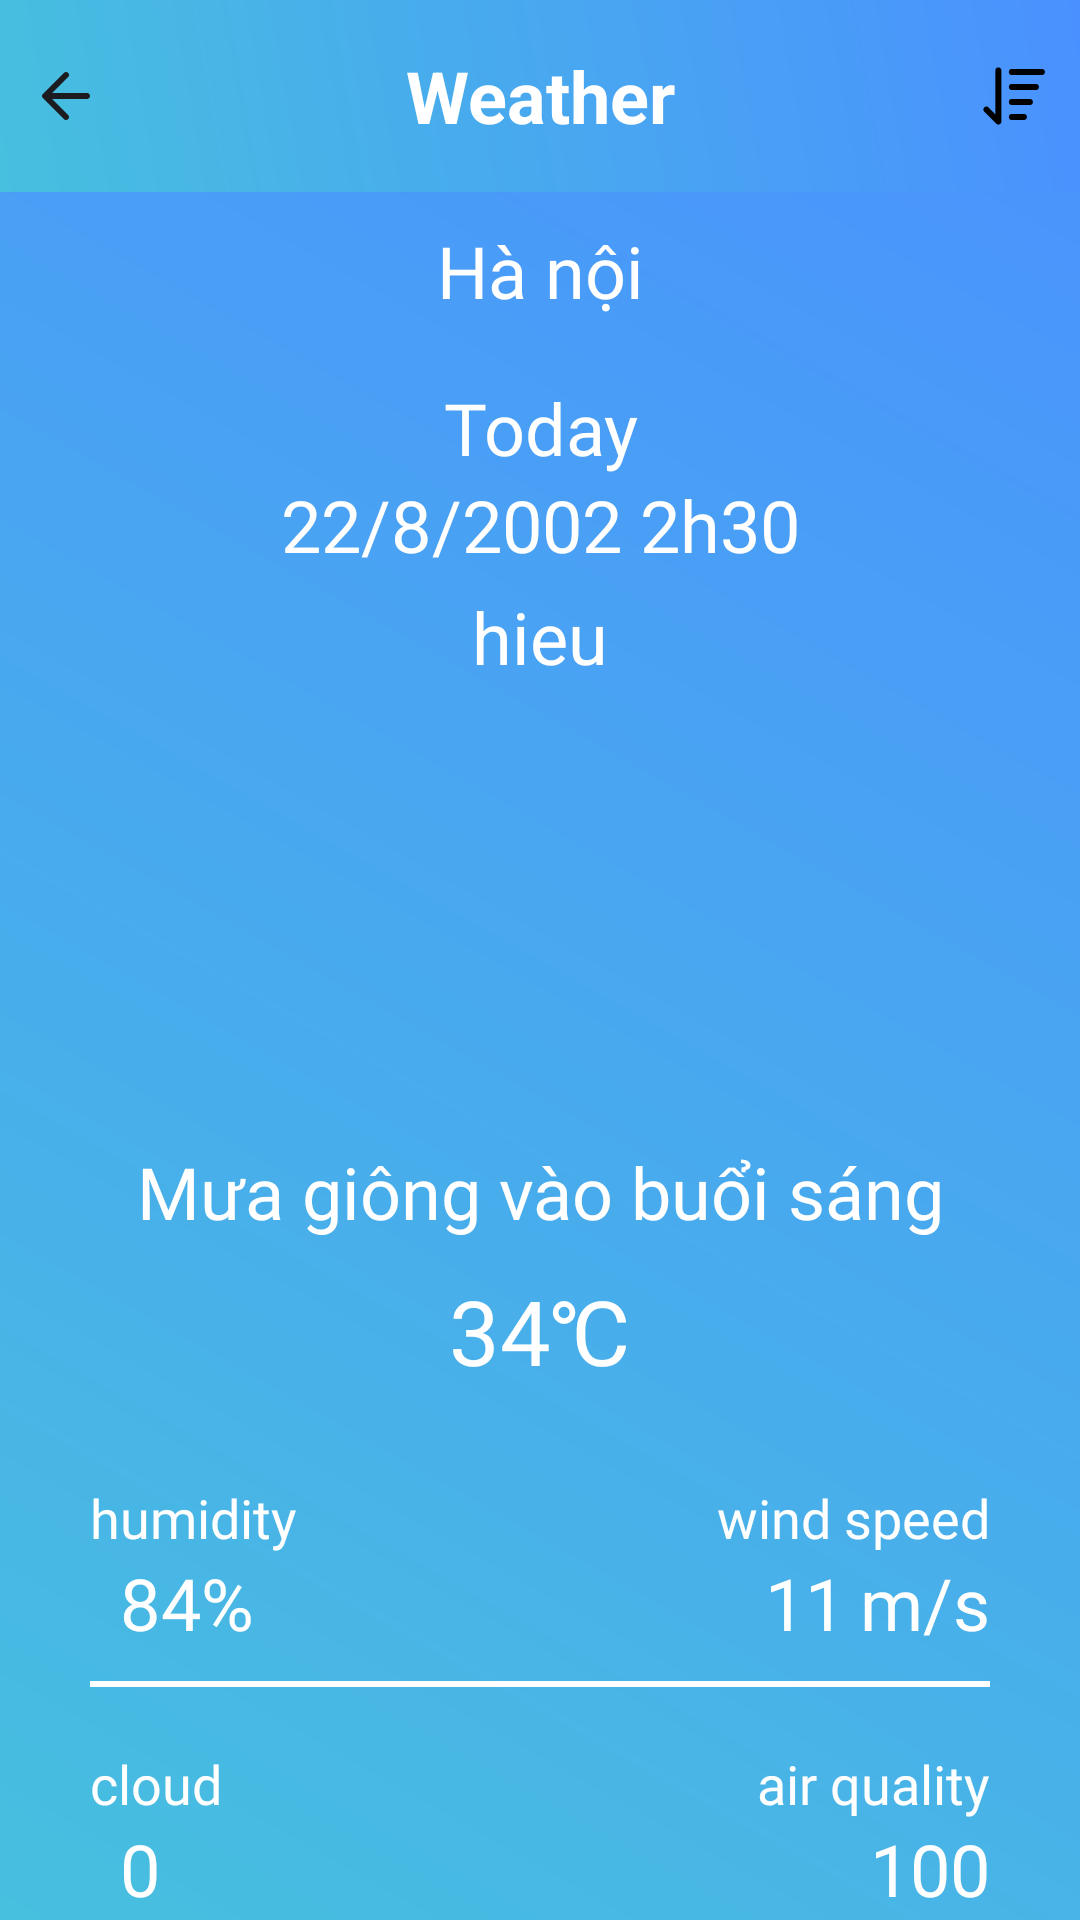

Named icons in this screenshot (1080w x 1920h) and their bounding boxes, (x1, y1, x2, y2):
back create note: (42, 72, 90, 120)
short: (983, 67, 1045, 125)
